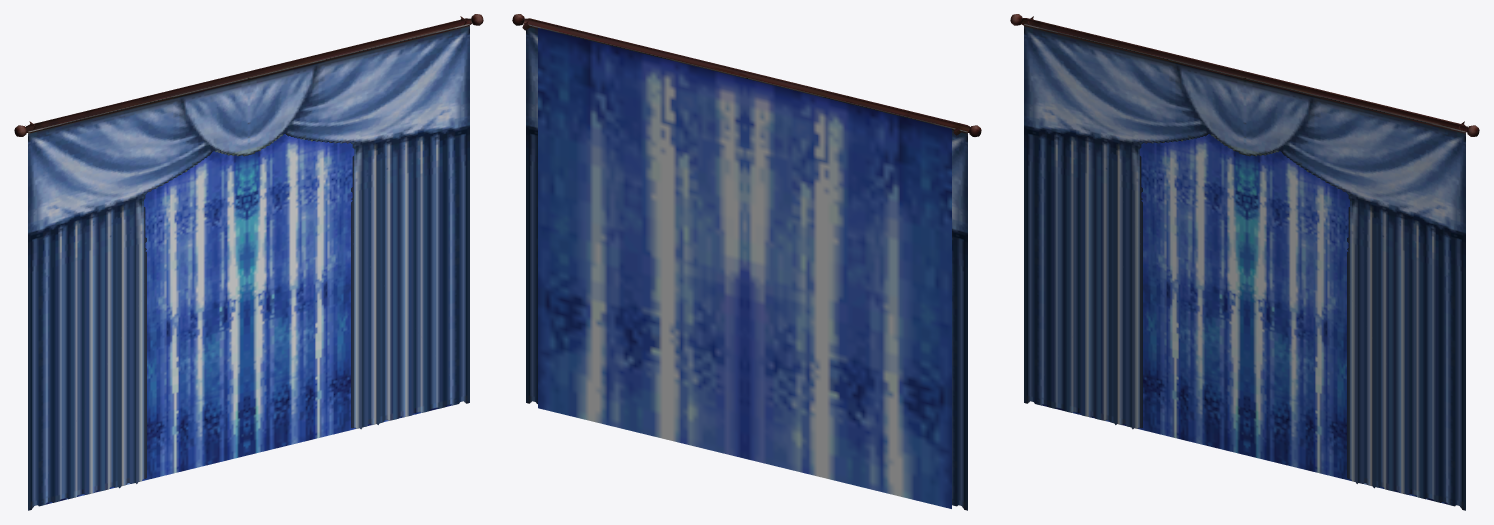
The model's file is furni_0201137_03.FBX.
3 renders of one model, left to right at view 1: azimuth 30°, elevation 25°; view 2: azimuth 150°, elevation 25°; view 3: azimuth 330°, elevation 25°, orthographic.
Visible parts, largest first — view 1: furni_0201137_03; view 2: furni_0201137_03; view 3: furni_0201137_03.
Part boxes in pixels (x1,y1,x2,y2): furni_0201137_03: (14,14,483,510); furni_0201137_03: (512,14,981,510); furni_0201137_03: (1010,14,1479,510).
Bounding box in the file's own units: 353 × 279 × 12.24.
Materials: 2 (2 with a texture image).
